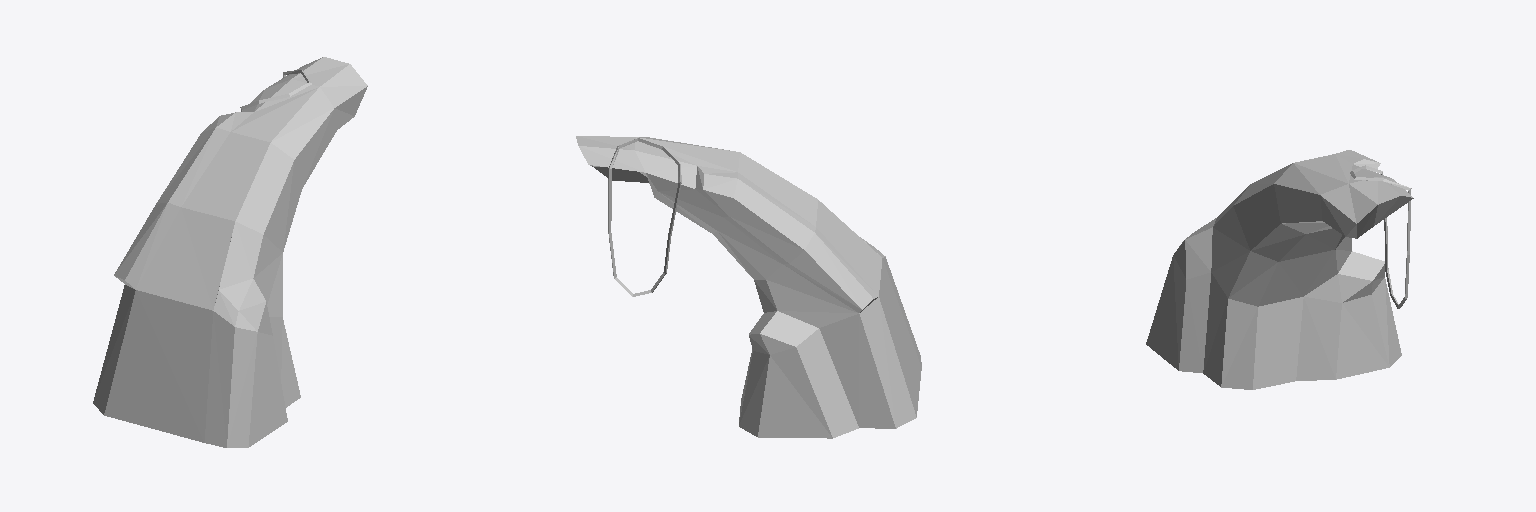
File: 5stone4.obj
3 renders of one model, left to right at view 1: azimuth 30°, elevation 25°; view 2: azimuth 150°, elevation 25°; view 3: azimuth 270°, elevation 25°, orthographic.
Visible parts, largest first — view 1: Cliffe_lush_(2); view 2: Cliffe_lush_(2); view 3: Cliffe_lush_(2).
Part boxes in pixels (left/top/right/bottom): Cliffe_lush_(2): left=93, top=57, right=367, bottom=447; Cliffe_lush_(2): left=576, top=136, right=921, bottom=438; Cliffe_lush_(2): left=1146, top=150, right=1413, bottom=389.
Size of the model in its own units: 13207 by 10467 by 10194.